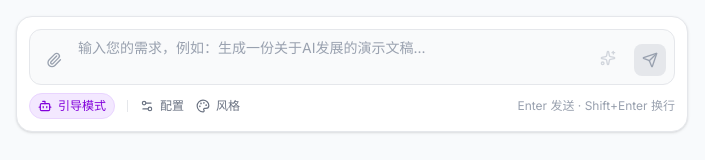
it: InputArea › 附件下拉菜单 › 点击附件按钮应该显示下拉菜单
The image size is (705, 160).
What coordinates should you click on to do the following:
click the button named "附件"
I would click on:
 (54, 60)
Its box is [38,44,70,76].
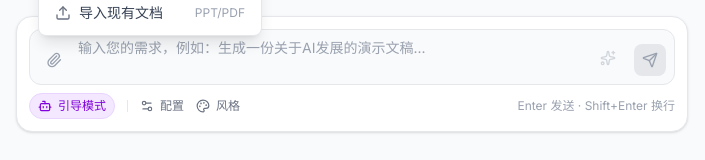
Result: the text "导入现有文档" is shown at [79,3,163,23]
